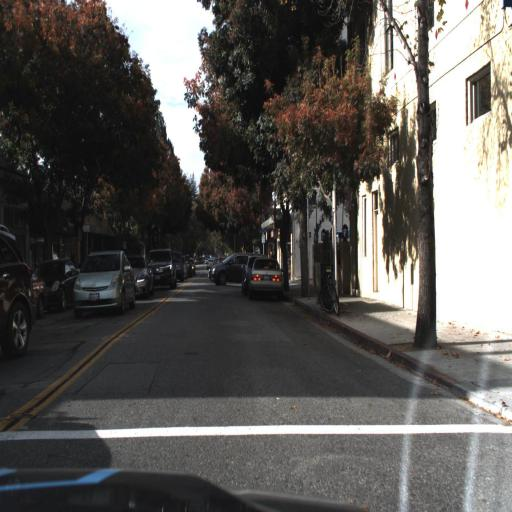car: (71, 246, 137, 320), (0, 222, 34, 363), (244, 254, 286, 306), (42, 257, 72, 312), (206, 248, 243, 288), (128, 249, 154, 305), (146, 247, 175, 295), (241, 254, 258, 297)
